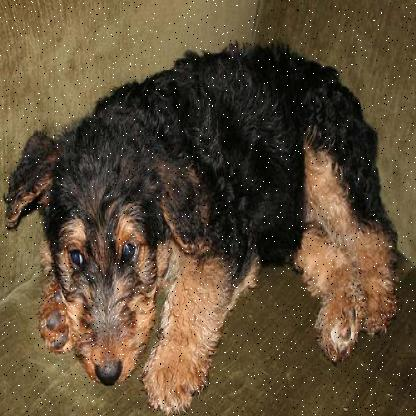dog: (12, 53, 396, 362)
